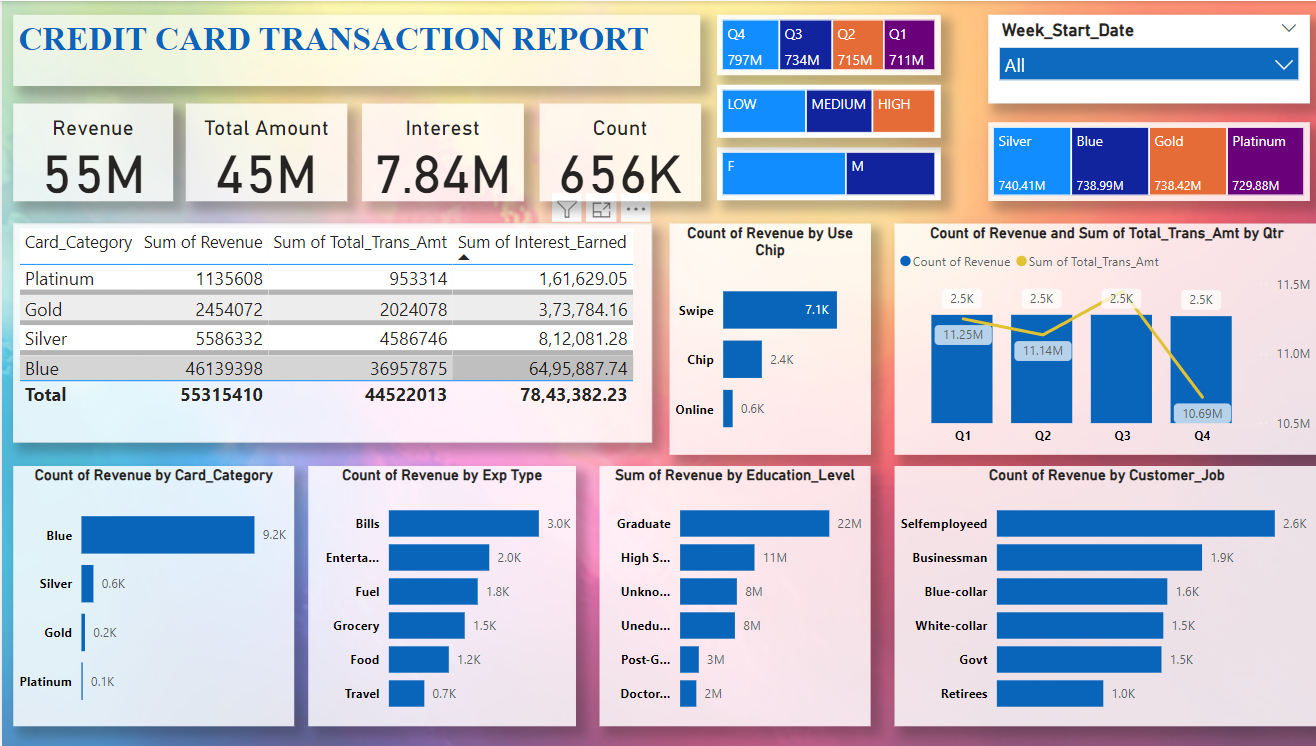

The dashboard page shown, as its layout file describes it:
{"tool":"powerbi","page":{"name":"Credit Card Report","canvas":[1280,720],"ordinal":0},"visuals":[{"type":"textbox","box":[11.4,12.9,662.9,68.6],"z":0},{"type":"lineClusteredColumnComboChart","fields":{"Category":["credit_card.Qtr"],"Y":["CountNonNull(credit_card.Revenue)"],"Y2":["Sum(credit_card.Total_Trans_Amt)"]},"box":[861.4,214.3,410,222.9],"z":1000},{"type":"clusteredBarChart","fields":{"Y":["CountNonNull(credit_card.Revenue)"],"Category":["credit_card.Card_Category"]},"box":[11.4,448.6,271.4,251.4],"z":2000},{"type":"clusteredBarChart","fields":{"Y":["CountNonNull(credit_card.Revenue)"],"Category":["credit_card.Exp Type"]},"box":[295.7,448.6,258.6,251.4],"z":3000},{"type":"clusteredBarChart","fields":{"Y":["CountNonNull(credit_card.Revenue)"],"Category":["credit_card.Use Chip"]},"box":[644.3,214.3,194.3,222.9],"z":4000},{"type":"clusteredBarChart","fields":{"Y":["Sum(credit_card.Revenue)"],"Category":["customer.Education_Level"]},"box":[577.1,448.6,261.4,251.4],"z":5000},{"type":"clusteredBarChart","fields":{"Y":["CountNonNull(credit_card.Revenue)"],"Category":["customer.Customer_Job"]},"box":[861.4,448.6,410,251.4],"z":6000},{"type":"tableEx","fields":{"Values":["credit_card.Card_Category","credit_card.Revenue","Sum(credit_card.Total_Trans_Amt)","Sum(credit_card.Interest_Earned)"]},"box":[11.4,214.3,615.7,211.4],"z":7000},{"type":"card","title":"Revenue","fields":{"Values":["Sum(credit_card.Revenue)"]},"box":[11.4,98.6,154.3,94.3],"z":8000},{"type":"card","title":"Total Amount","fields":{"Values":["Sum(credit_card.Total_Trans_Amt)"]},"box":[177.1,98.6,155.7,94.3],"z":9000},{"type":"card","title":"Interest","fields":{"Values":["Sum(credit_card.Interest_Earned)"]},"box":[347.1,98.6,155.7,94.3],"z":10000},{"type":"card","title":"Count","fields":{"Values":["Sum(credit_card.Total_Trans_Vol)"]},"box":[518.6,98.6,155.7,94.3],"z":11000},{"type":"treemap","fields":{"Group":["credit_card.Qtr"],"Values":["Avg(credit_card.Client_Num)"]},"box":[690,12.9,215.7,58.6],"z":12000},{"type":"slicer","fields":{"Values":["credit_card.Week_Start_Date"]},"box":[951.4,12.9,310,85.7],"z":13000},{"type":"treemap","fields":{"Group":["customer.Gender"],"Values":["CountNonNull(credit_card.Client_Num)"]},"box":[690,141.4,215.7,51.4],"z":14000},{"type":"treemap","fields":{"Group":["credit_card.Card_Category"],"Values":["Avg(credit_card.Client_Num)"]},"box":[951.4,117.1,310,75.7],"z":15000},{"type":"treemap","fields":{"Values":["CountNonNull(credit_card.Client_Num)"],"Group":["customer.IncomeGroup"]},"box":[690,81.4,215.7,51.4],"z":16000}]}

Visuals, with their boxes in screenshot pixels (x1, y1, x2, y2), scaled from the page's 1280x720 canvas onto the 1316x746 screenshot:
textbox: 12,13,693,84
lineClusteredColumnComboChart - credit_card.Qtr x CountNonNull(credit_card.Revenue): 886,222,1307,453
clusteredBarChart - CountNonNull(credit_card.Revenue) x credit_card.Card_Category: 12,465,291,725
clusteredBarChart - CountNonNull(credit_card.Revenue) x credit_card.Exp Type: 304,465,570,725
clusteredBarChart - CountNonNull(credit_card.Revenue) x credit_card.Use Chip: 662,222,862,453
clusteredBarChart - Sum(credit_card.Revenue) x customer.Education_Level: 593,465,862,725
clusteredBarChart - CountNonNull(credit_card.Revenue) x customer.Customer_Job: 886,465,1307,725
tableEx - credit_card.Card_Category x credit_card.Revenue: 12,222,645,441
"Revenue" card: 12,102,170,200
"Total Amount" card: 182,102,342,200
"Interest" card: 357,102,517,200
"Count" card: 533,102,693,200
treemap - credit_card.Qtr x Avg(credit_card.Client_Num): 709,13,931,74
slicer - credit_card.Week_Start_Date: 978,13,1297,102
treemap - customer.Gender x CountNonNull(credit_card.Client_Num): 709,147,931,200
treemap - credit_card.Card_Category x Avg(credit_card.Client_Num): 978,121,1297,200
treemap - CountNonNull(credit_card.Client_Num) x customer.IncomeGroup: 709,84,931,138
